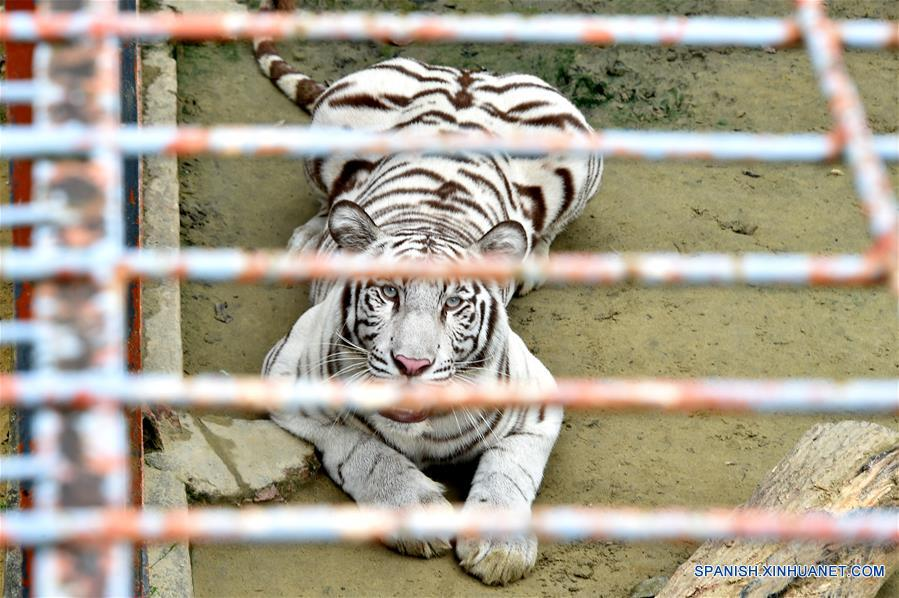Tigrew: (275, 43, 614, 593)
